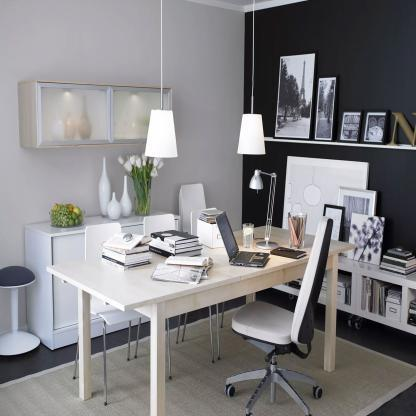chair: (224, 215, 335, 416), (75, 214, 172, 410), (170, 178, 256, 354), (139, 212, 222, 371), (0, 261, 41, 363)
light: (142, 2, 183, 169), (229, 7, 271, 158), (246, 167, 287, 252)
table: (44, 219, 356, 416)
